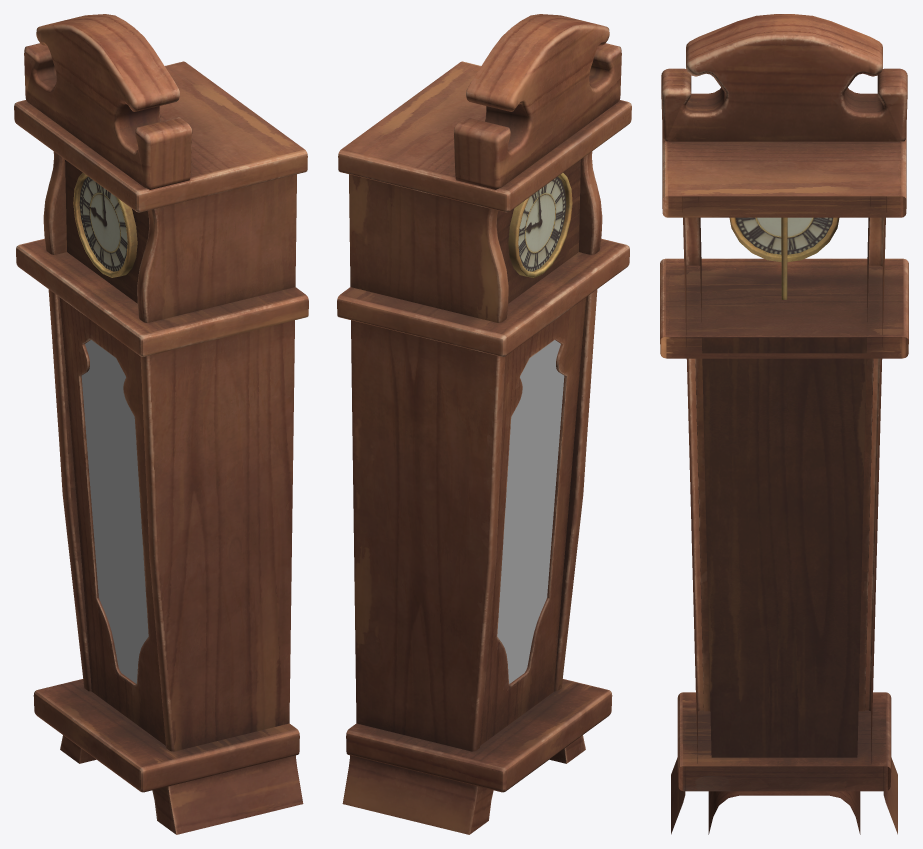
File: SM_Clock_01.fbx
3 views of the same model, side by side, from view 1: azimuth 30°, elevation 25°; view 2: azimuth 150°, elevation 25°; view 3: azimuth 270°, elevation 25° (orthographic). The views are drawn at different scales.
Visible parts, largest first — view 1: SM_Clock_01_LOD0; view 2: SM_Clock_01_LOD0; view 3: SM_Clock_01_LOD0.
Boxes of the visible parts, x1=… form: SM_Clock_01_LOD0: x1=14, y1=14, x2=308, y2=834; SM_Clock_01_LOD0: x1=337, y1=14, x2=631, y2=834; SM_Clock_01_LOD0: x1=660, y1=14, x2=908, y2=834.
Bounding box in the file's own units: 54.72 × 71.09 × 235.
2 materials, 1 textured.
